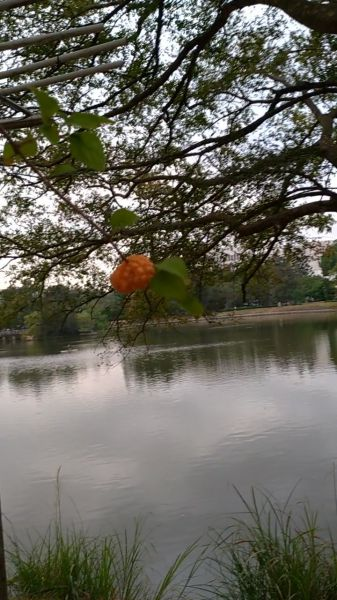eggs: (100, 248, 160, 301)
